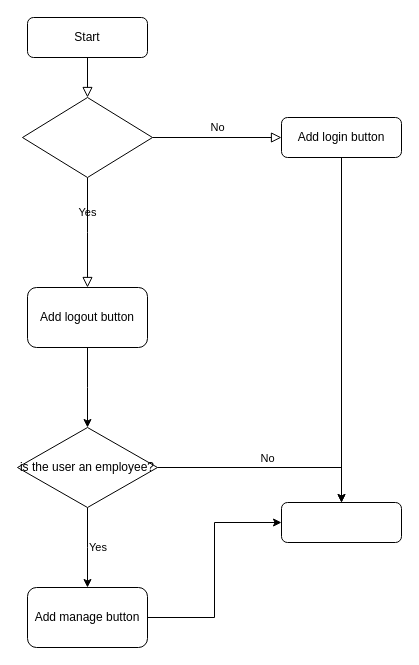
Some shapes in this 419 by 665 pixel diagram are drawn without their labels. The box of each missing label's shape, as (x1, y1, x2, y2) in pixels:
Is user loged in?: (22, 96, 152, 178)
Main page: (280, 502, 402, 542)
